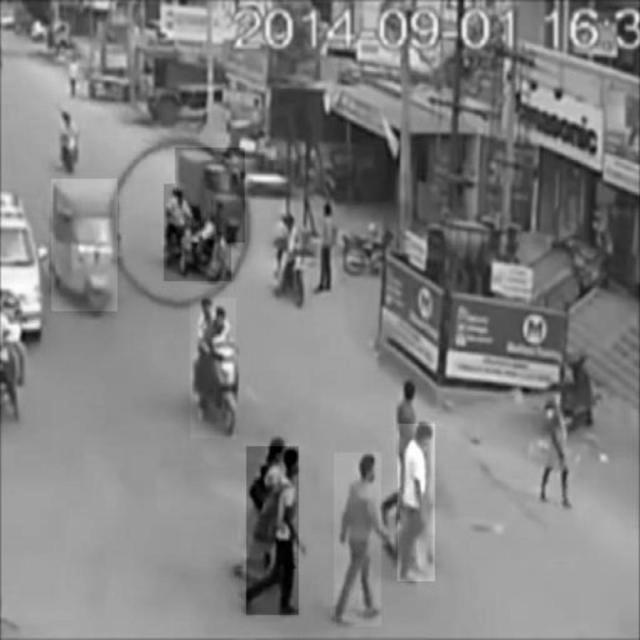accident: (164, 184, 231, 282)
person: (247, 446, 299, 614), (334, 452, 381, 626), (398, 425, 435, 582)
vehicle: (52, 179, 118, 311), (175, 148, 245, 242), (191, 298, 237, 439)
